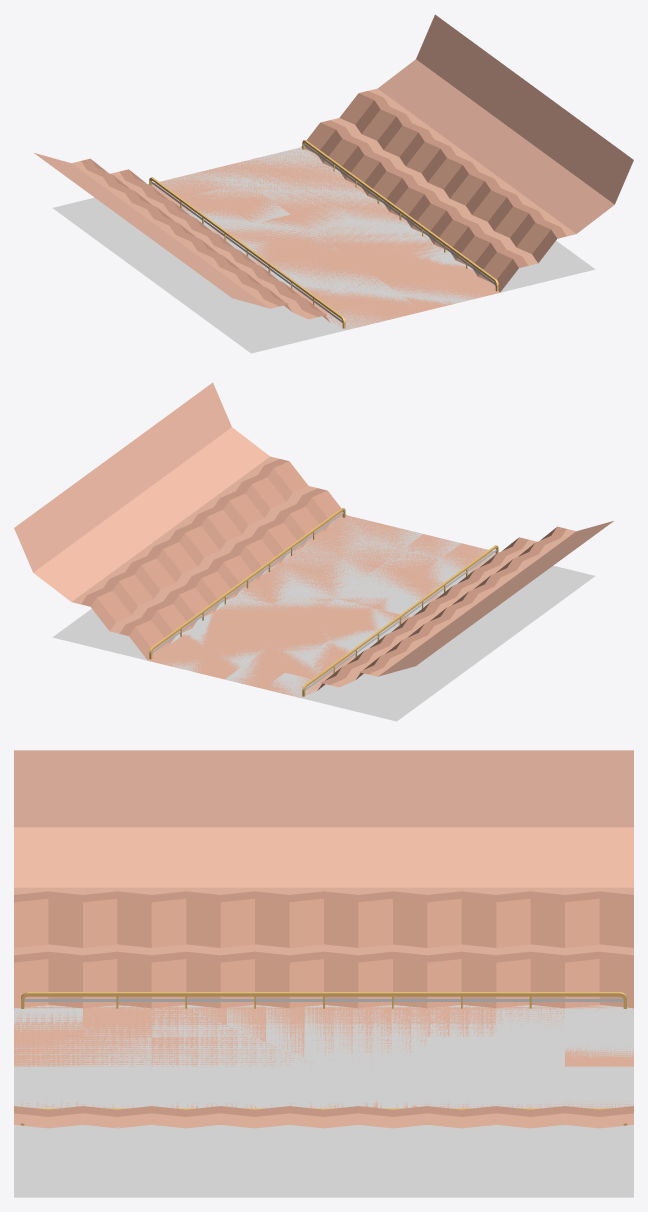
Rendered from troad_straight.glb.
The picture shows the model from 3 angles, top to bottom: view 1: azimuth 30°, elevation 25°; view 2: azimuth 150°, elevation 25°; view 3: azimuth 270°, elevation 25°; orthographic projection. The views are drawn at different scales.
Parts seen in each view (by area): view 1: RoadStraight, ReferencePlane; view 2: RoadStraight, ReferencePlane; view 3: RoadStraight, ReferencePlane.
Part boxes in pixels (<box>): RoadStraight: <box>34,14,633,329</box>; ReferencePlane: <box>53,147,595,353</box>; RoadStraight: <box>14,382,613,697</box>; ReferencePlane: <box>52,516,594,721</box>; RoadStraight: <box>14,750,633,1128</box>; ReferencePlane: <box>14,1004,633,1197</box>.
Bounding box in the file's own units: 11 × 2.5 × 9.
